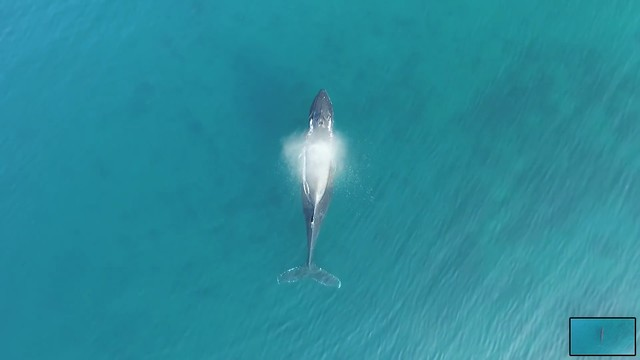whale: (271, 83, 354, 295)
